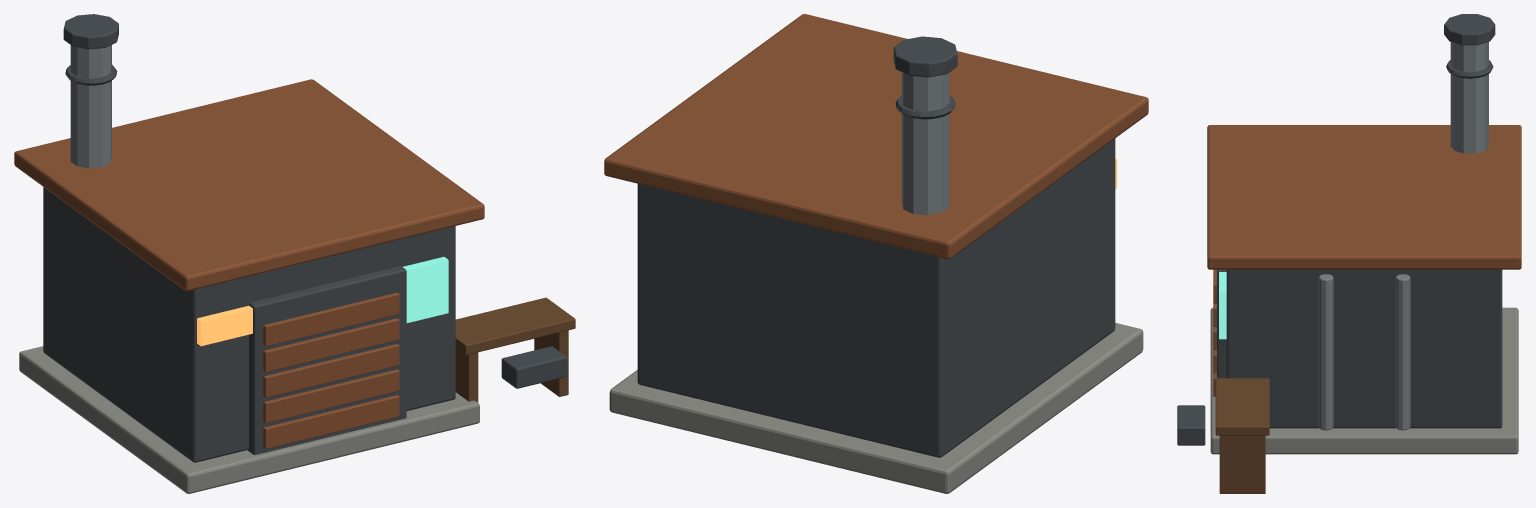
File: workshop.glb
The picture shows the model from 3 angles, left to right: view 1: azimuth 30°, elevation 25°; view 2: azimuth 150°, elevation 25°; view 3: azimuth 270°, elevation 25°; orthographic projection. The views are drawn at different scales.
Parts seen in each view (by area): view 1: workshop; view 2: workshop; view 3: workshop.
Boxes of the visible parts, x1,y1,x2,y2 form: workshop: (14, 14, 575, 493); workshop: (604, 14, 1148, 493); workshop: (1177, 14, 1521, 493).
Bounding box in the file's own units: 3.23 × 2.77 × 2.69.
